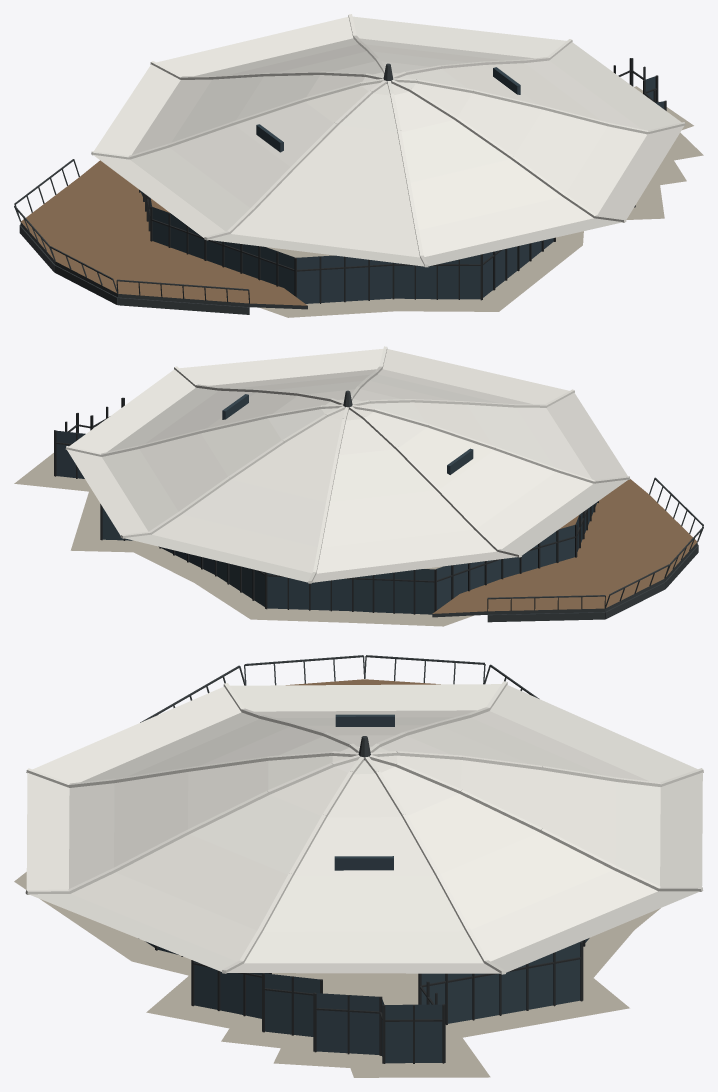
Rendered from serpentine_bar_kitchen.glb.
The picture shows the model from 3 angles, top to bottom: view 1: azimuth 30°, elevation 25°; view 2: azimuth 150°, elevation 25°; view 3: azimuth 270°, elevation 25°; orthographic projection. The views are drawn at different scales.
Size of the model in its own units: 45.68 by 9.32 by 34.83.
